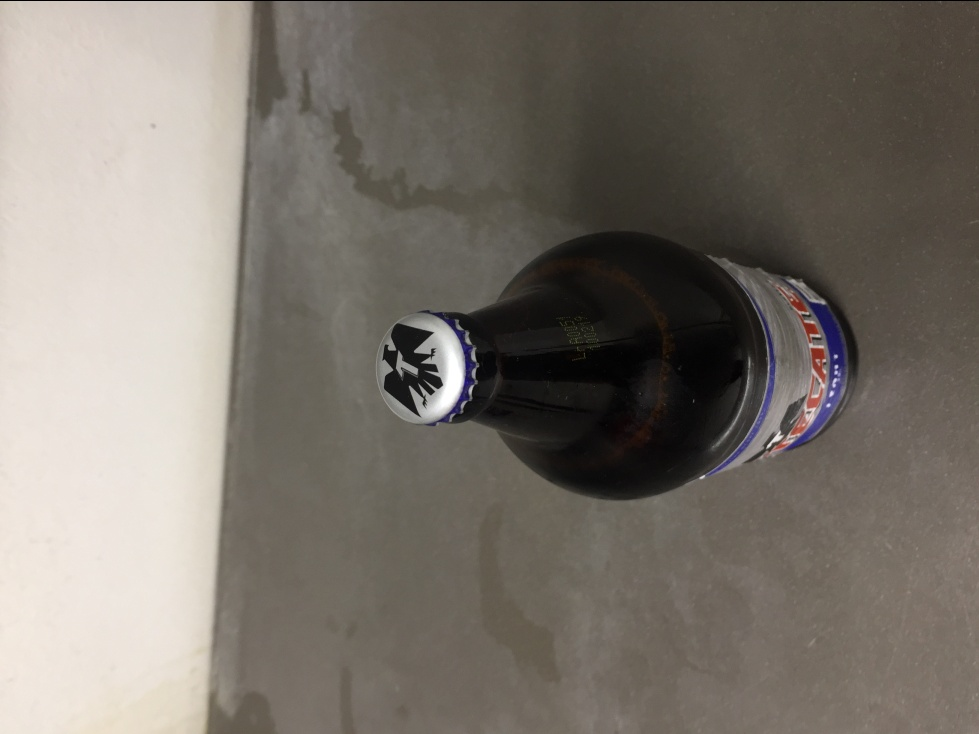tecateC: (374, 225, 862, 505)
